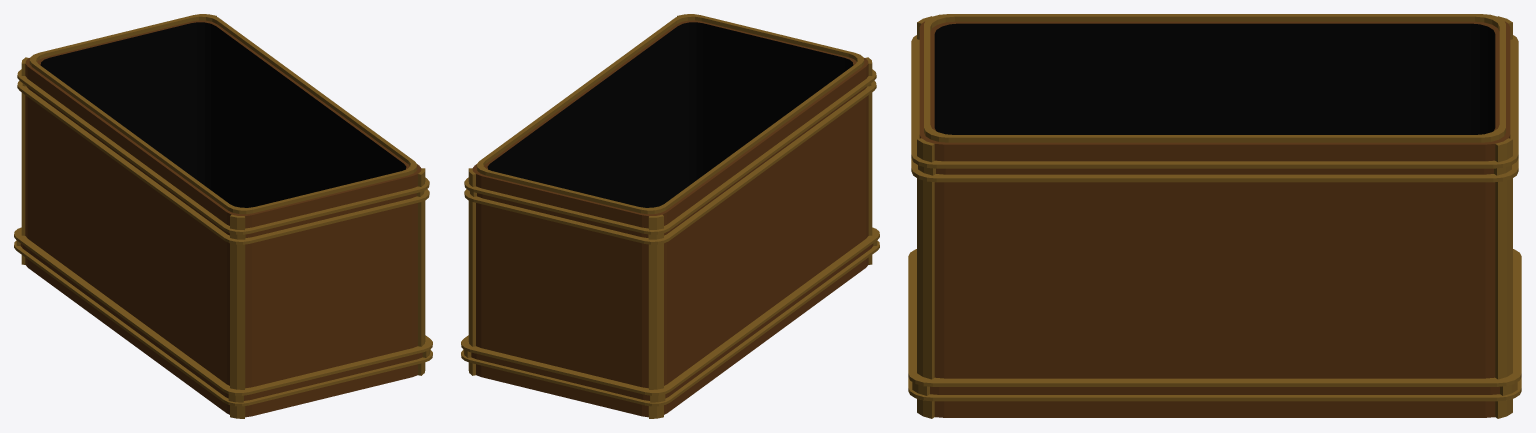
Rendered from chest.fbx.
The picture shows the model from 3 angles, left to right: view 1: azimuth 30°, elevation 25°; view 2: azimuth 150°, elevation 25°; view 3: azimuth 270°, elevation 25°; orthographic projection. The views are drawn at different scales.
Parts seen in each view (by area): view 1: Cube; view 2: Cube; view 3: Cube.
Boxes of the visible parts, left/top/right/bottom form: Cube: left=14, top=14, right=432, bottom=418; Cube: left=461, top=14, right=879, bottom=418; Cube: left=908, top=14, right=1521, bottom=418.
Size of the model in its own units: 2.15 by 2.04 by 4.07.
